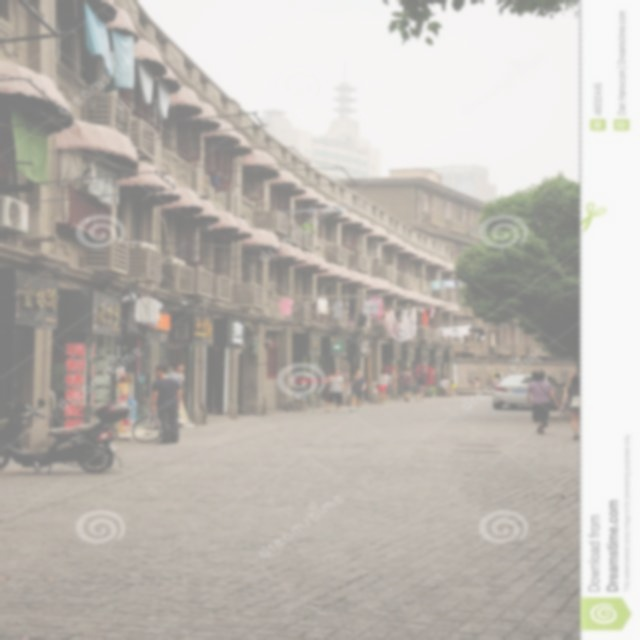pessoa: (148, 363, 182, 445), (524, 368, 560, 434), (558, 372, 592, 440), (323, 368, 346, 412), (346, 368, 368, 413), (398, 367, 416, 402), (374, 368, 389, 404), (170, 363, 186, 392), (386, 369, 400, 399), (414, 372, 427, 402), (488, 368, 504, 388), (440, 376, 452, 396), (437, 378, 448, 396), (472, 376, 480, 396), (450, 380, 460, 390)
